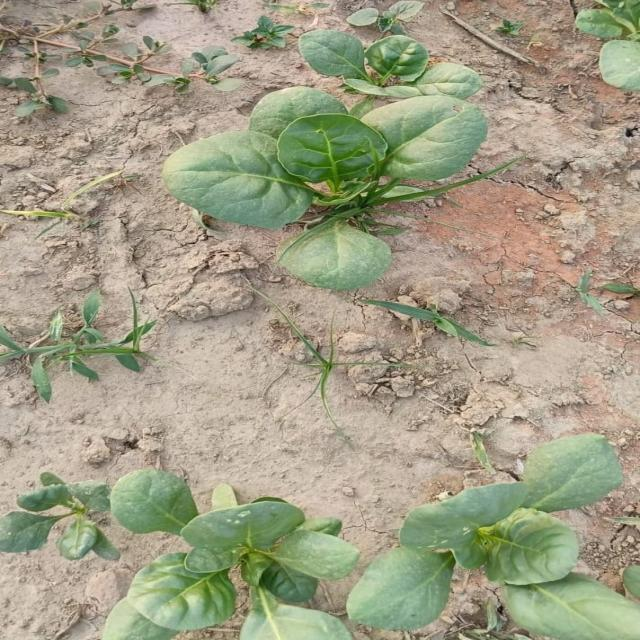plant: (163, 30, 504, 290), (2, 469, 359, 640), (347, 435, 639, 640)
